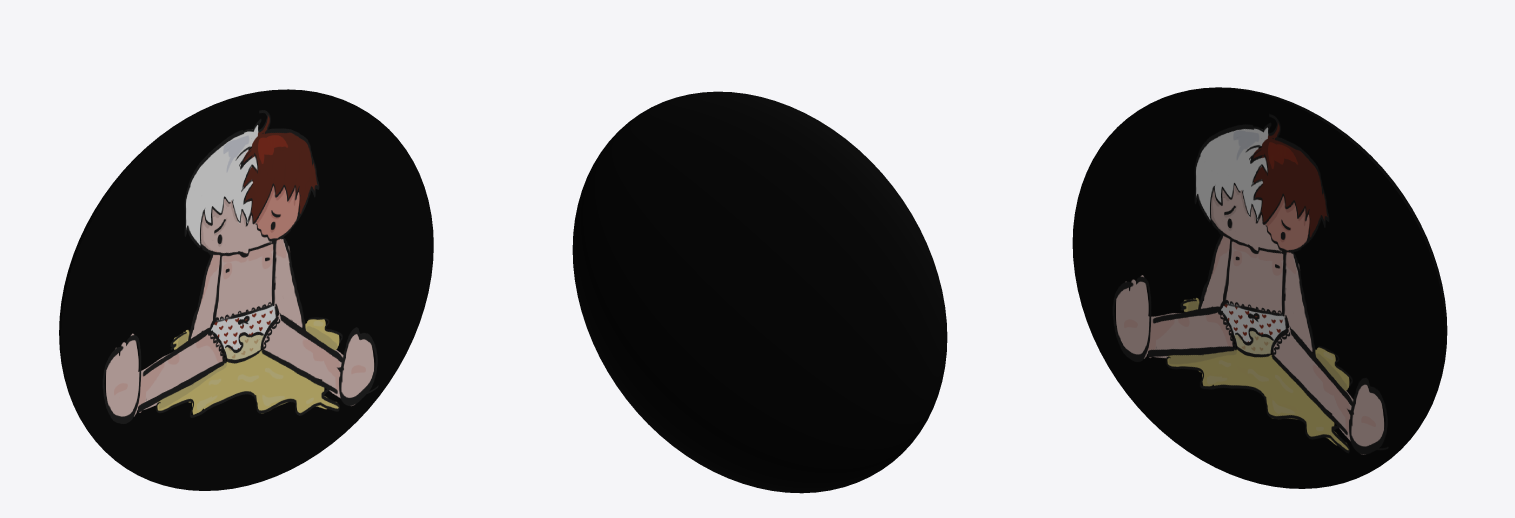
The model's file is shobackround.gltf.
The picture shows the model from 3 angles, left to right: view 1: azimuth 30°, elevation 25°; view 2: azimuth 150°, elevation 25°; view 3: azimuth 330°, elevation 25°; orthographic projection.
Parts seen in each view (by area): view 1: mesh_id42, mesh_id26; view 2: mesh_id42; view 3: mesh_id42, mesh_id26.
Boxes of the visible parts, x1,y1,x2,y2 form: mesh_id42: [59, 89, 433, 490]; mesh_id26: [102, 110, 378, 423]; mesh_id42: [572, 91, 947, 493]; mesh_id42: [1072, 87, 1447, 488]; mesh_id26: [1112, 114, 1388, 454].
Size of the model in its own units: 0.3 by 0.2488 by 0.0297.
Materials: 2 (2 with a texture image).
